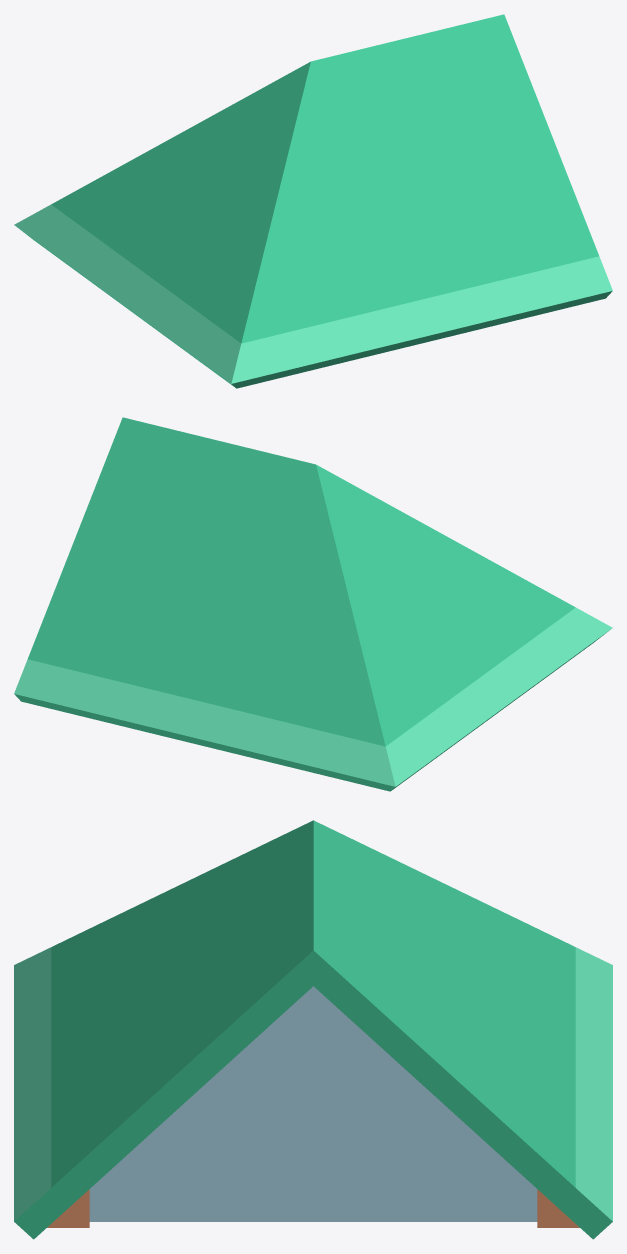
File: roofGableEnd.fbx
3 views of the same model, one above another, from view 1: azimuth 30°, elevation 25°; view 2: azimuth 150°, elevation 25°; view 3: azimuth 270°, elevation 25° (orthographic). The views are drawn at different scales.
Parts seen in each view (by area): view 1: roofGableEnd; view 2: roofGableEnd; view 3: roofGableEnd.
Part boxes in pixels (x1,y1,x2,y2): roofGableEnd: (14,14,612,388); roofGableEnd: (14,417,612,791); roofGableEnd: (14,820,612,1239).
Bounding box in the file's own units: 10.85 × 5.71 × 10.71.
